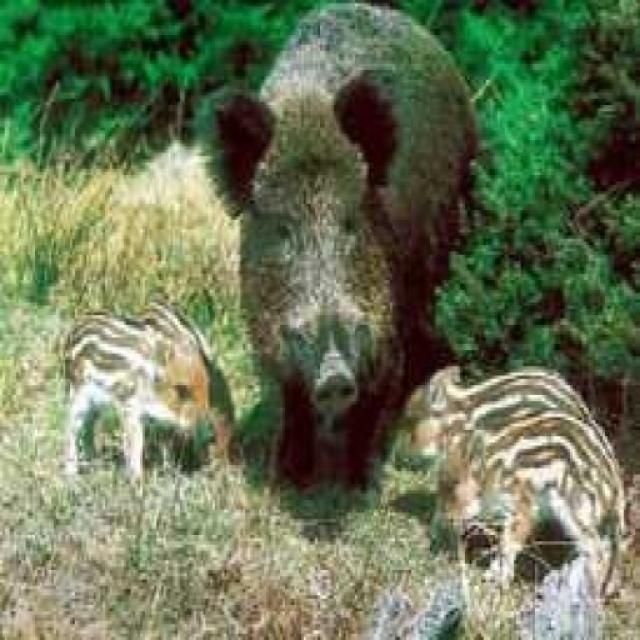pig: (199, 0, 490, 451), (56, 283, 228, 513), (428, 411, 640, 579), (386, 374, 635, 491)
